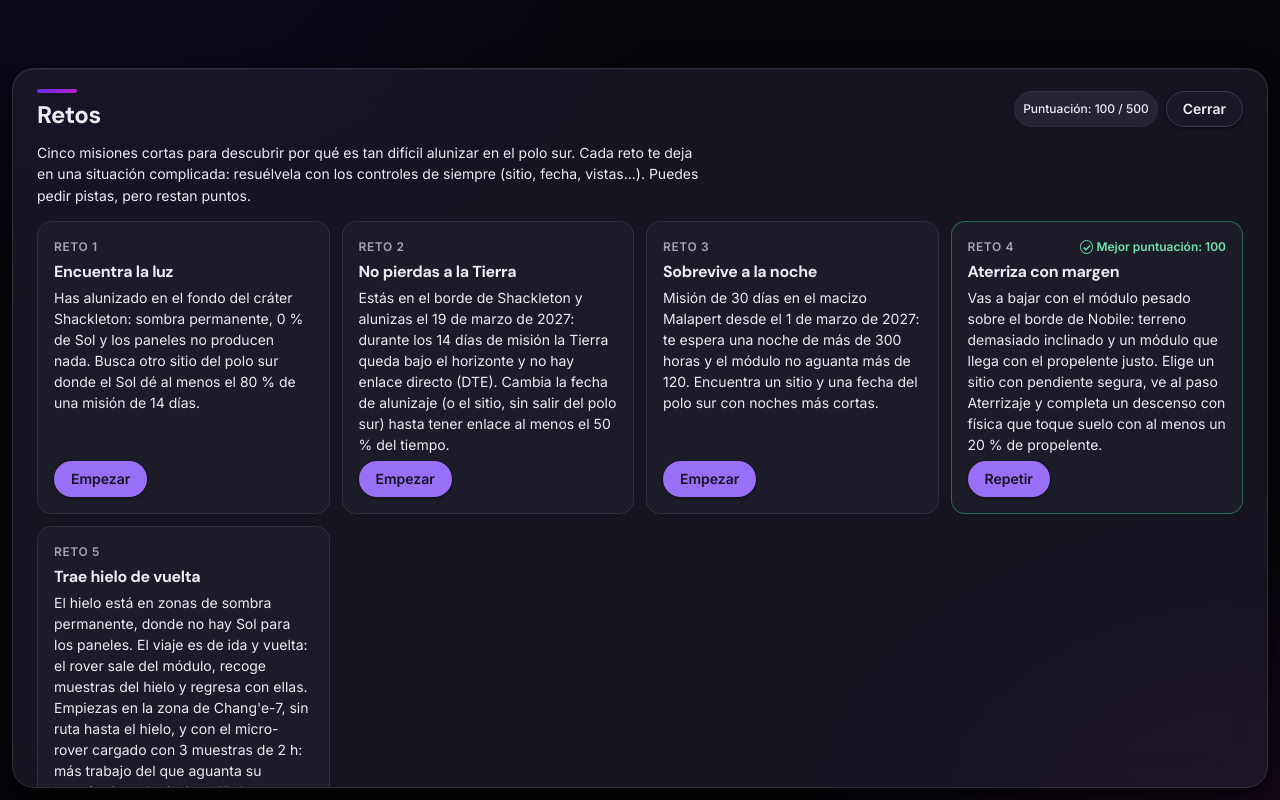
Test: playing a challenge › each hint revealed costs 15 points and the best score is kept
The image size is (1280, 800).
Click the button named "Repetir: Aterriza con margen".
click(1009, 479)  # box [968,461,1050,497]
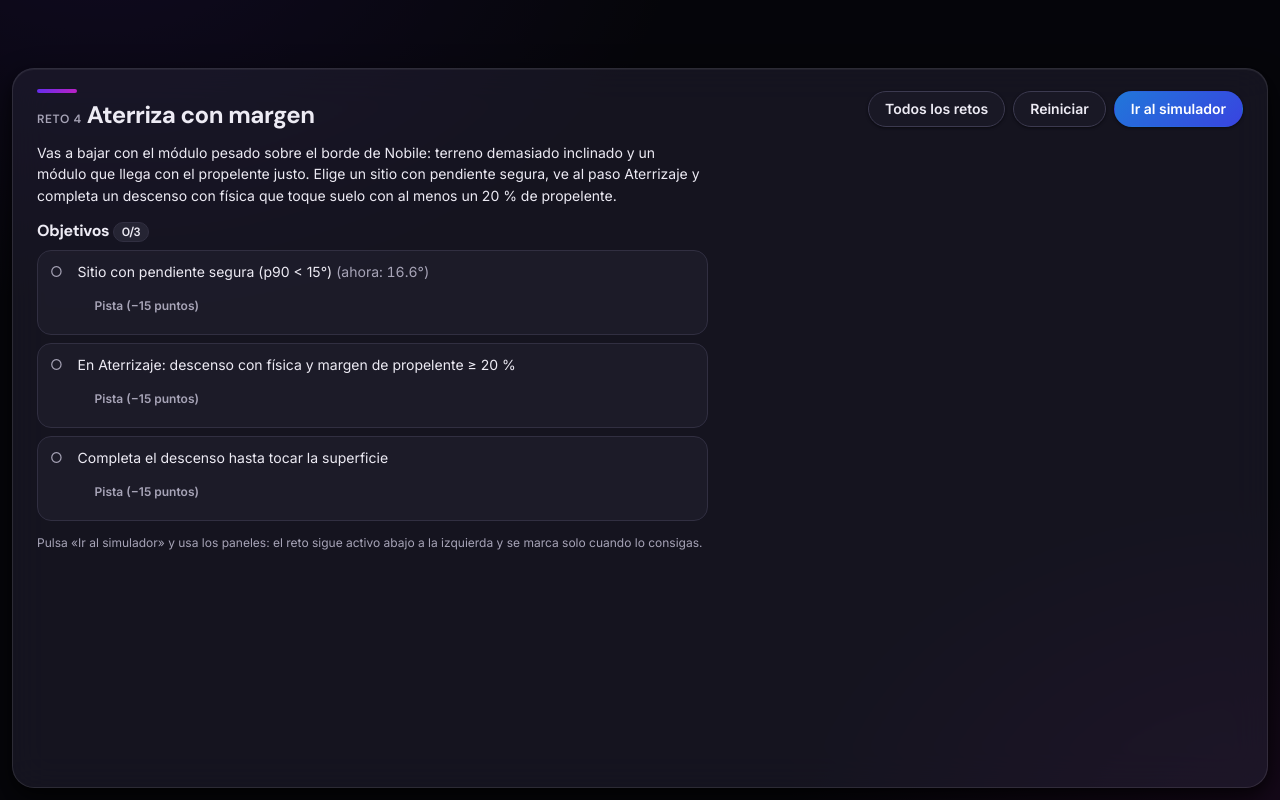
Click the button named "Pista (−15 puntos): Sitio con pendiente segura".
click(147, 306)  # box [78,288,216,324]
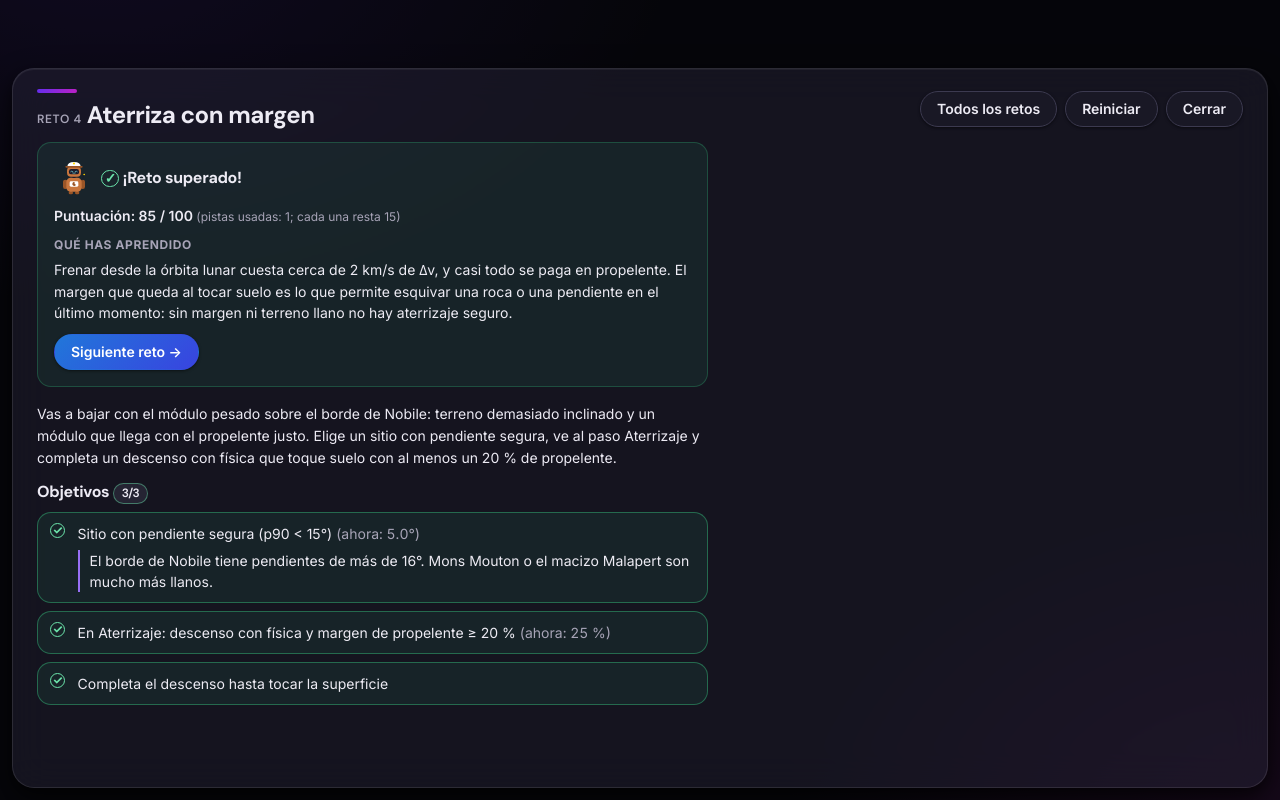
Expected: the text "Mons Mouton o el macizo Malapert" is shown, [90,552,689,590]
Expected: the text "Puntuación: 85 / 100" is shown, [54,207,193,224]
